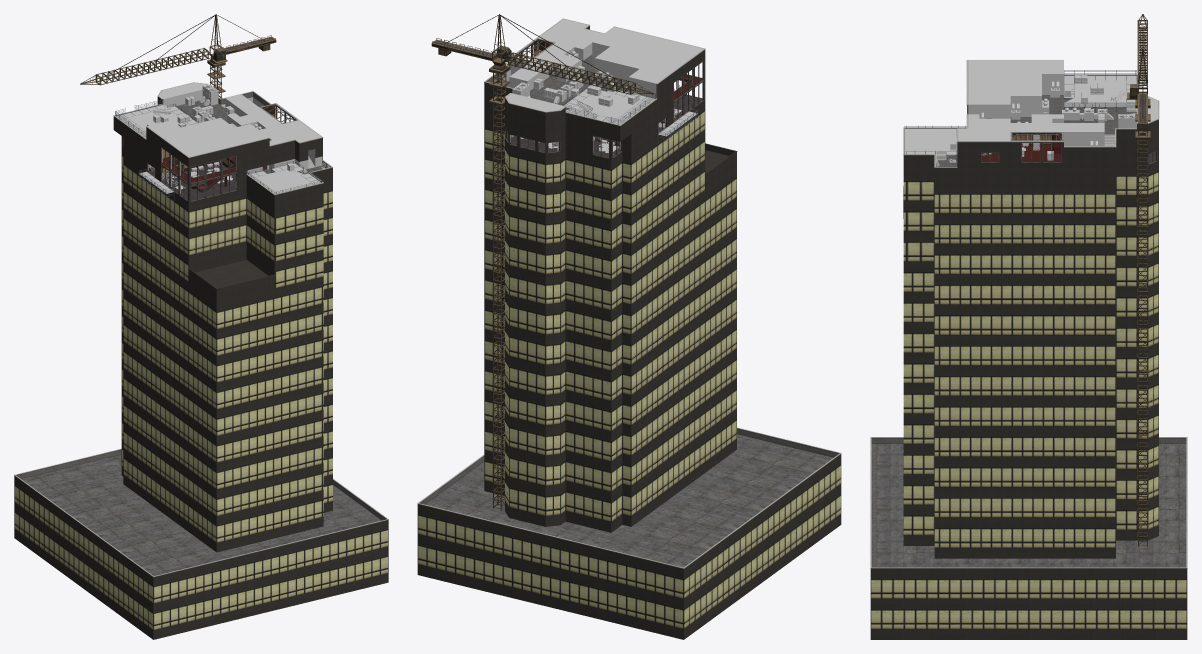
The model's file is Outpost_World.obj.
3 views of the same model, side by side, from view 1: azimuth 30°, elevation 25°; view 2: azimuth 150°, elevation 25°; view 3: azimuth 270°, elevation 25° (orthographic). The views are drawn at different scales.
Parts seen in each view (by area): view 1: Main_Building, outpost_top, outpost_in, outpost_Alpha, Object01,outpost_top, Ref_outpost_in,outpost_in; view 2: Main_Building, outpost_top, outpost_in, outpost_Alpha, Object01,outpost_top; view 3: Main_Building, outpost_top, outpost_in, Object01,outpost_top, outpost_Alpha.
Boxes of the visible parts, x1,y1,x2,y2 form: Main_Building: [14, 89, 388, 639]; outpost_top: [80, 14, 332, 195]; outpost_in: [122, 103, 297, 201]; outpost_Alpha: [116, 97, 320, 193]; Object01,outpost_top: [115, 99, 321, 200]; Ref_outpost_in,outpost_in: [148, 105, 294, 197]; Main_Building: [417, 26, 841, 639]; outpost_top: [431, 14, 705, 126]; outpost_in: [505, 38, 704, 158]; outpost_Alpha: [520, 62, 697, 152]; Object01,outpost_top: [562, 82, 697, 144]; Main_Building: [870, 119, 1187, 639]; outpost_top: [903, 14, 1159, 167]; outpost_in: [981, 132, 1157, 164]; Object01,outpost_top: [904, 70, 1137, 160]; outpost_Alpha: [905, 76, 1136, 154].
Bounding box in the file's own units: 104 × 204 × 104.
